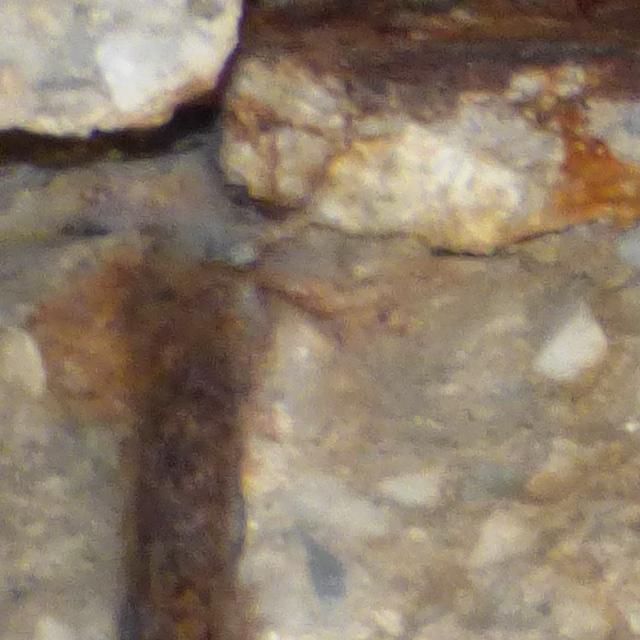Rust: (126, 254, 261, 637), (237, 1, 635, 103), (542, 97, 639, 232)
